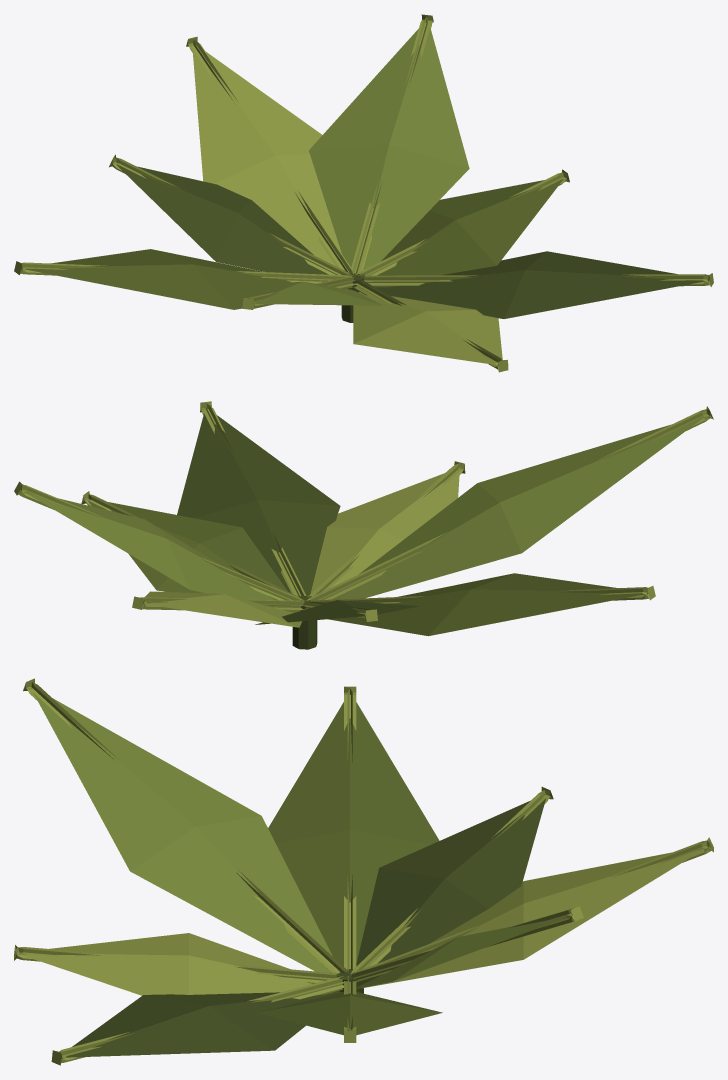
File: source.glb
3 views of the same model, one above another, from view 1: azimuth 30°, elevation 25°; view 2: azimuth 150°, elevation 25°; view 3: azimuth 270°, elevation 25° (orthographic). The views are drawn at different scales.
Visible parts, largest first — view 1: broadleaf; view 2: broadleaf; view 3: broadleaf.
Part boxes in pixels (x1,y1,x2,y2): broadleaf: [14, 14, 713, 372]; broadleaf: [14, 401, 713, 649]; broadleaf: [14, 678, 713, 1065].
Size of the model in its own units: 2.13 by 0.6678 by 2.03.
